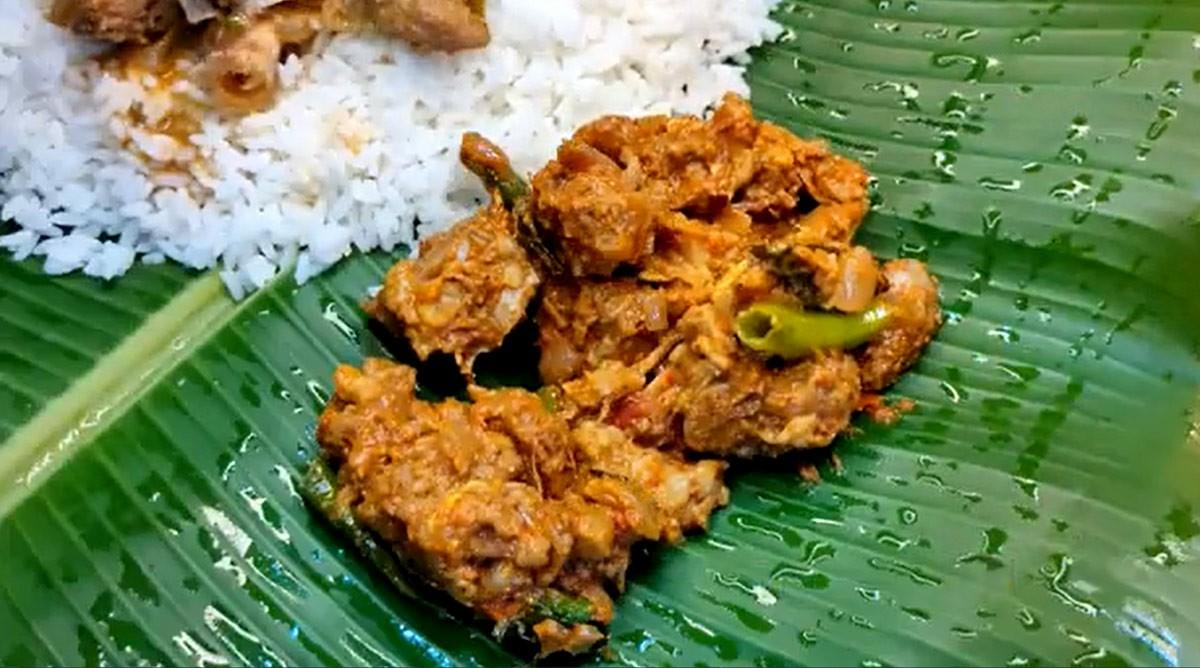MuttonCurry: (311, 87, 932, 668)
